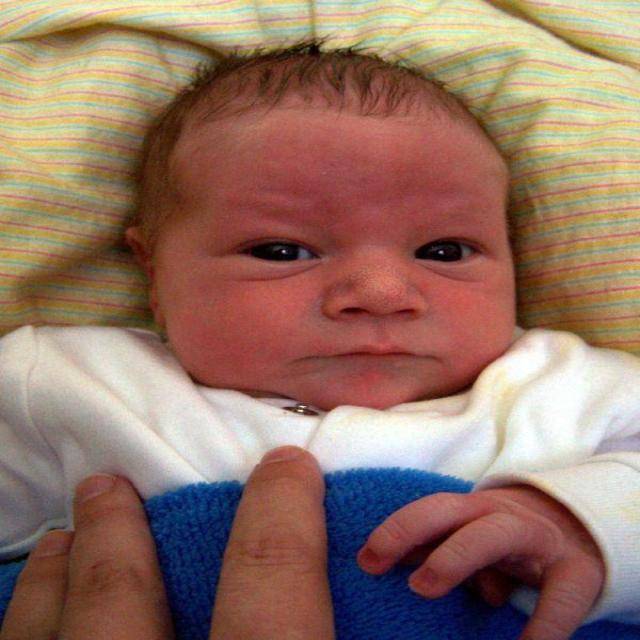no-glass: (212, 240, 479, 271)
